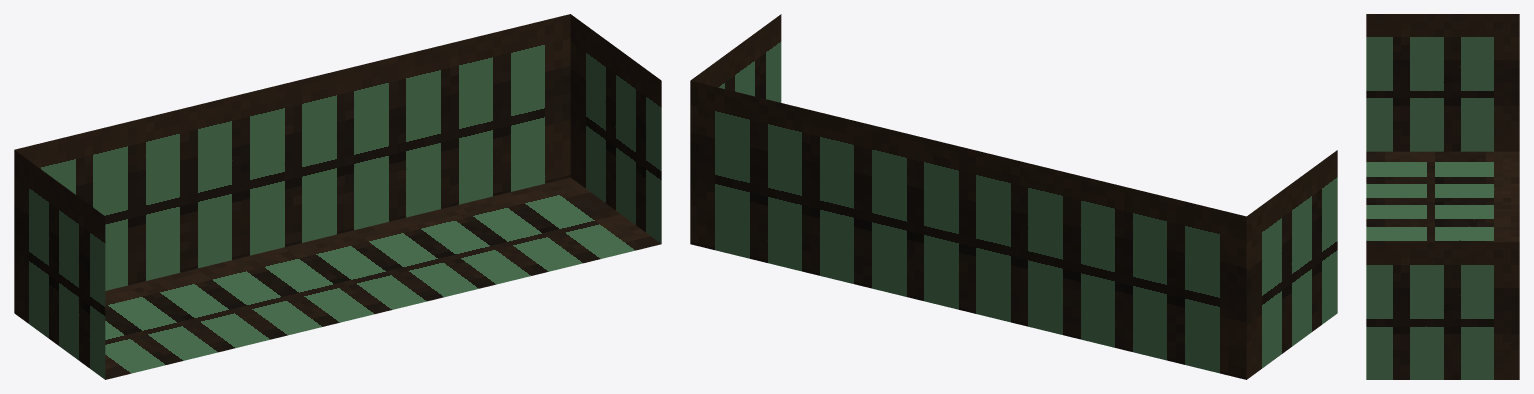
3 renders of one model, left to right at view 1: azimuth 30°, elevation 25°; view 2: azimuth 150°, elevation 25°; view 3: azimuth 270°, elevation 25°, orthographic. The views are drawn at different scales.
Parts seen in each view (by area): view 1: balcony-type-a; view 2: balcony-type-a; view 3: balcony-type-a.
Part boxes in pixels (bbox=[...]): balcony-type-a: bbox=[14, 14, 661, 379]; balcony-type-a: bbox=[690, 14, 1337, 379]; balcony-type-a: bbox=[1366, 14, 1519, 379].
Size of the model in its own units: 1 by 0.2808 by 0.2837.
Materials: 1 (1 with a texture image).
